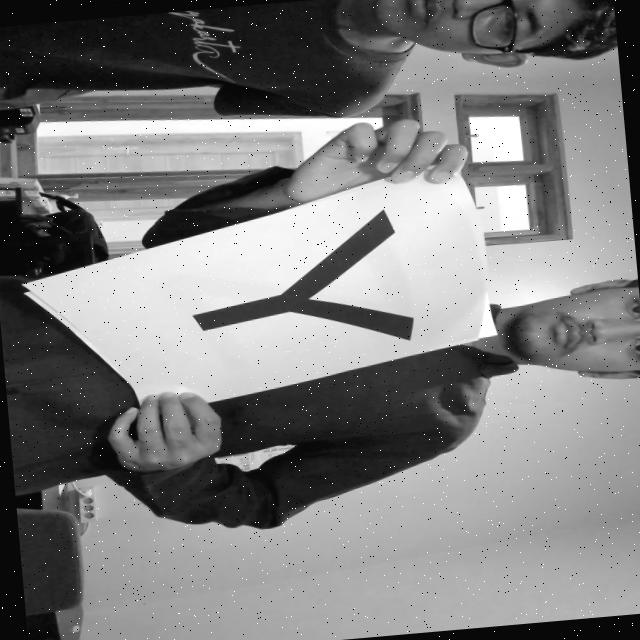y: (174, 194, 443, 374)
